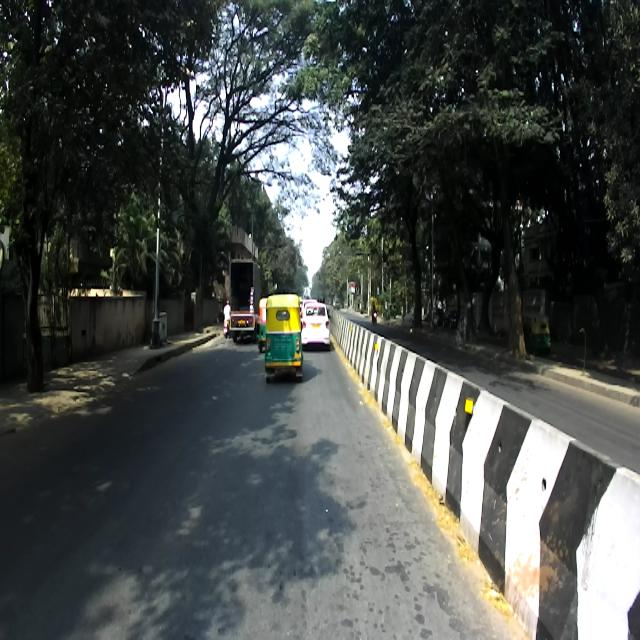auto ahead at: (262, 292, 304, 383)
truck ahead at: (226, 253, 258, 343)
